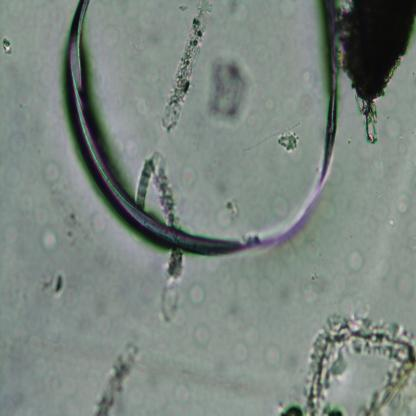Background material: (307, 310, 416, 415), (338, 0, 416, 142), (158, 3, 216, 132), (89, 338, 142, 414), (206, 54, 254, 127), (136, 150, 180, 227), (155, 277, 183, 321), (225, 332, 254, 368), (216, 188, 238, 232), (39, 223, 67, 257), (258, 334, 285, 368), (232, 366, 255, 399), (271, 195, 298, 223), (190, 320, 212, 352), (276, 128, 300, 155), (41, 154, 60, 188), (345, 244, 365, 276), (89, 208, 106, 244), (176, 164, 198, 189), (50, 269, 68, 297), (394, 190, 414, 214), (186, 285, 203, 310), (136, 96, 151, 120), (398, 276, 415, 297), (0, 36, 15, 57), (303, 69, 317, 90)
Microfibre: (66, 1, 337, 259)
